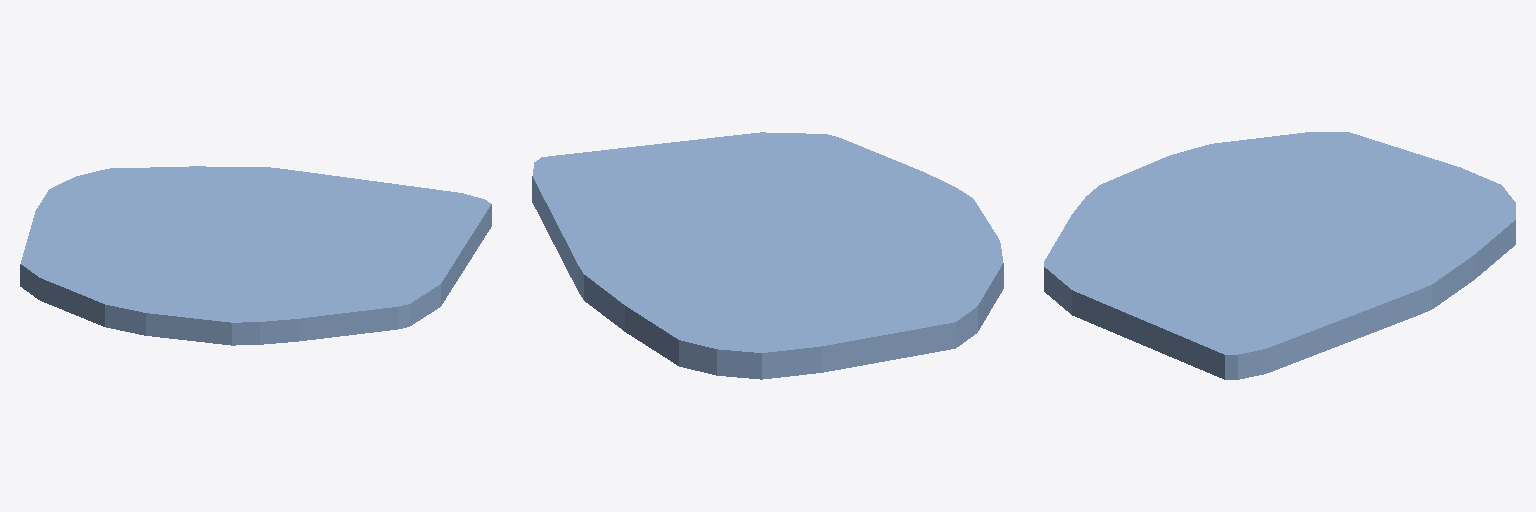
robot.urdf — table:
<?xml version="1.0"?>
<robot name="table">
  <!-- The table top of Two mugs on a garden table: a static convex slab, top face at z = 0. Load with a fixed base -->
  <mujoco>
    <compiler meshdir="../meshes/" discardvisual="true" balanceinertia="true" fusestatic="false" />
  </mujoco>
  <link name="table">
    <inertial>
      <mass value="20" />
      <inertia ixx="1" ixy="0" ixz="0" iyy="1" iyz="0" izz="1" />
    </inertial>
    <visual>
      <geometry>
        <mesh filename="../meshes/table.obj" />
      </geometry>
      <material name="table_color">
        <color rgba="0.635 0.745 0.89 1" />
      </material>
    </visual>
    <collision>
      <geometry>
        <mesh filename="../meshes/table.obj" />
      </geometry>
    </collision>
    <contact>
      <lateral_friction value="1" />
    </contact>
  </link>
</robot>

--- Facts derived from the render (not from the file) ---
Views: 3 orthographic renders of the robot side by side, from view 1: azimuth 30°, elevation 25°; view 2: azimuth 150°, elevation 25°; view 3: azimuth 270°, elevation 25°.
Model table with 1 links and 0 joints (none), rooted at table, posed every joint at zero.
Visible links, largest first — view 1: table; view 2: table; view 3: table.
Link boxes in pixels (left/top/right/bottom): table: left=20, top=166, right=491, bottom=345; table: left=532, top=132, right=1003, bottom=379; table: left=1044, top=132, right=1515, bottom=379.
Bounding box of the posed robot: 0.76 × 0.68 × 0.04 m (x, y, z).
Meshes: 1 distinct files referenced, 1 mesh visuals loaded (1 OBJ).
